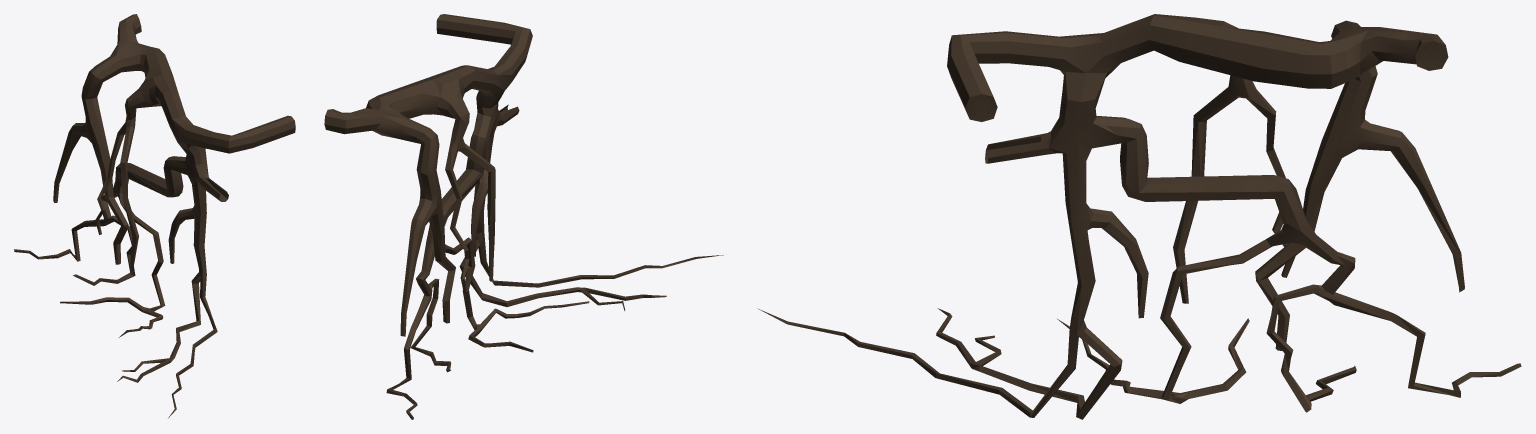
Rendered from ea_environment_nature_root_2c_pre_7_lev1.glb.
3 renders of one model, left to right at view 1: azimuth 30°, elevation 25°; view 2: azimuth 150°, elevation 25°; view 3: azimuth 270°, elevation 25°, orthographic. The views are drawn at different scales.
Visible parts, largest first — view 1: ea_environment_nature_root_2c_pre_7_lev1; view 2: ea_environment_nature_root_2c_pre_7_lev1; view 3: ea_environment_nature_root_2c_pre_7_lev1.
Boxes of the visible parts, box(x1,y1,x2,y2) form: ea_environment_nature_root_2c_pre_7_lev1: box(14, 14, 295, 418); ea_environment_nature_root_2c_pre_7_lev1: box(324, 14, 723, 419); ea_environment_nature_root_2c_pre_7_lev1: box(757, 14, 1521, 419).
Size of the model in its own units: 1.82 by 2.16 by 3.59.
Materials: 1 (1 with a texture image).
